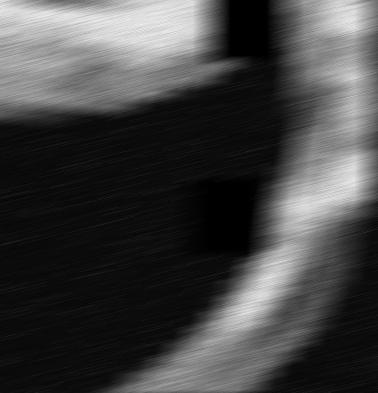Airbag: (0, 0, 378, 393), (369, 1, 378, 393)
